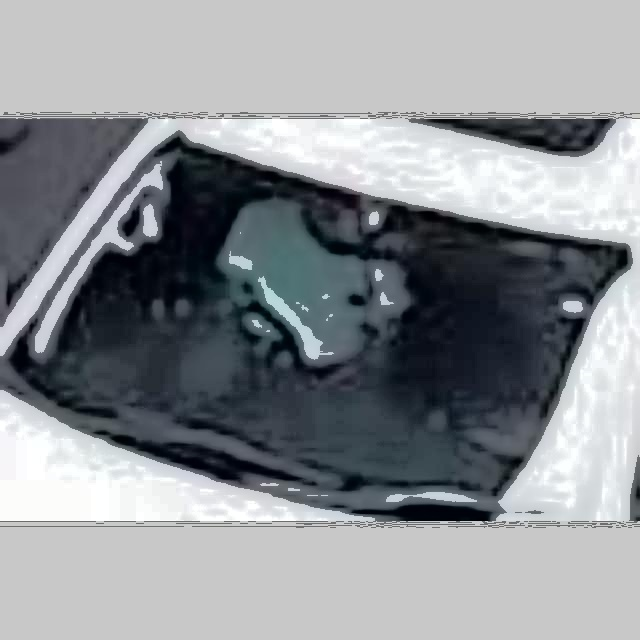tidak-pakai: (176, 170, 396, 374)
